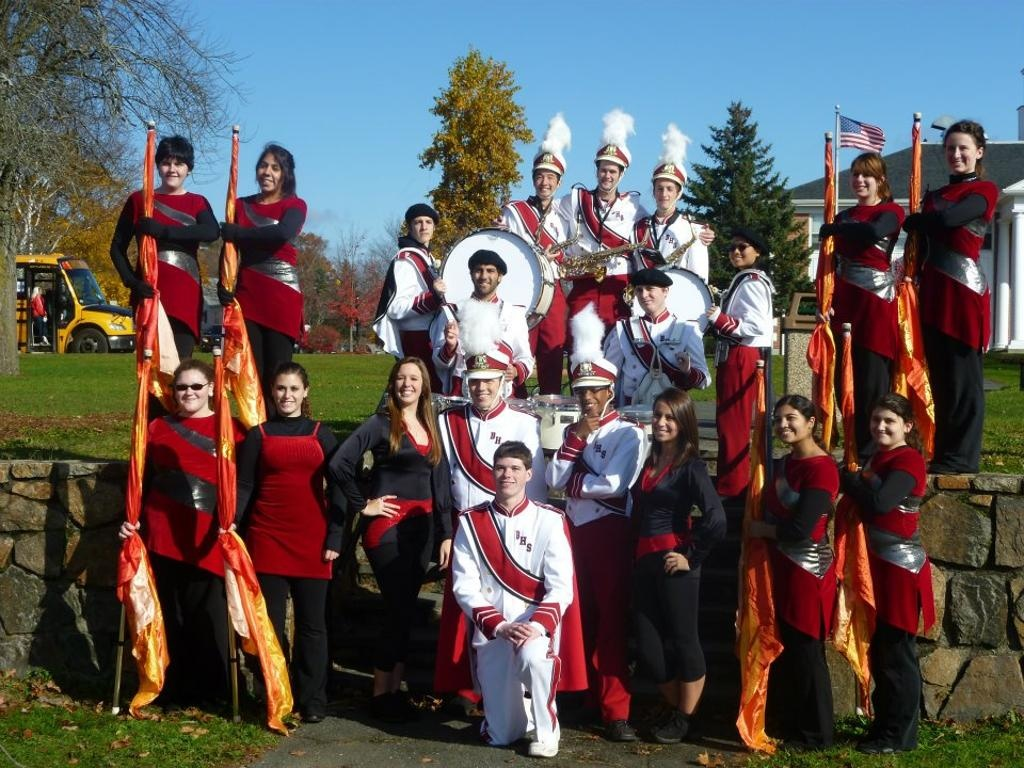human_face: (868, 407, 904, 445), (173, 370, 207, 408), (944, 130, 974, 170), (650, 400, 680, 440), (273, 372, 303, 412), (774, 406, 806, 442), (468, 372, 500, 406), (156, 152, 188, 186), (494, 458, 524, 493), (576, 384, 608, 414), (257, 150, 281, 190), (396, 363, 420, 401), (468, 262, 498, 292), (850, 164, 876, 196), (634, 282, 662, 310), (726, 238, 754, 266), (654, 178, 680, 207), (596, 160, 620, 188), (533, 169, 557, 195), (410, 214, 432, 240)
